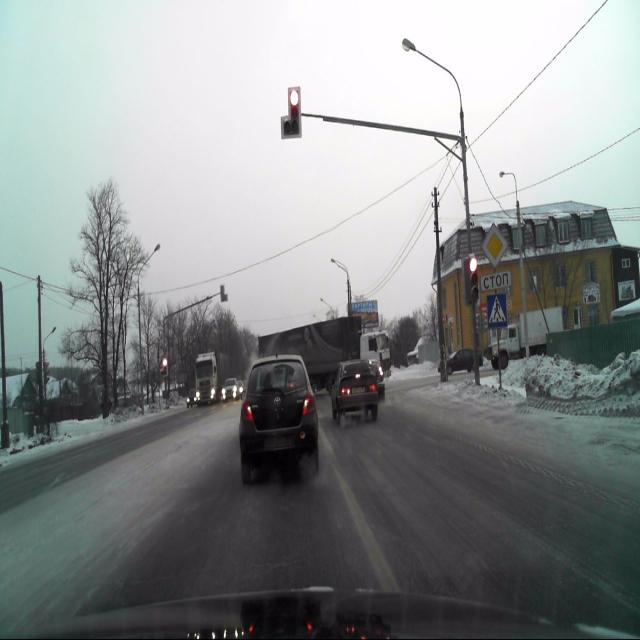object: (497, 332, 503, 390)
road sign: (482, 222, 508, 268), (486, 293, 507, 328), (480, 274, 512, 295)
